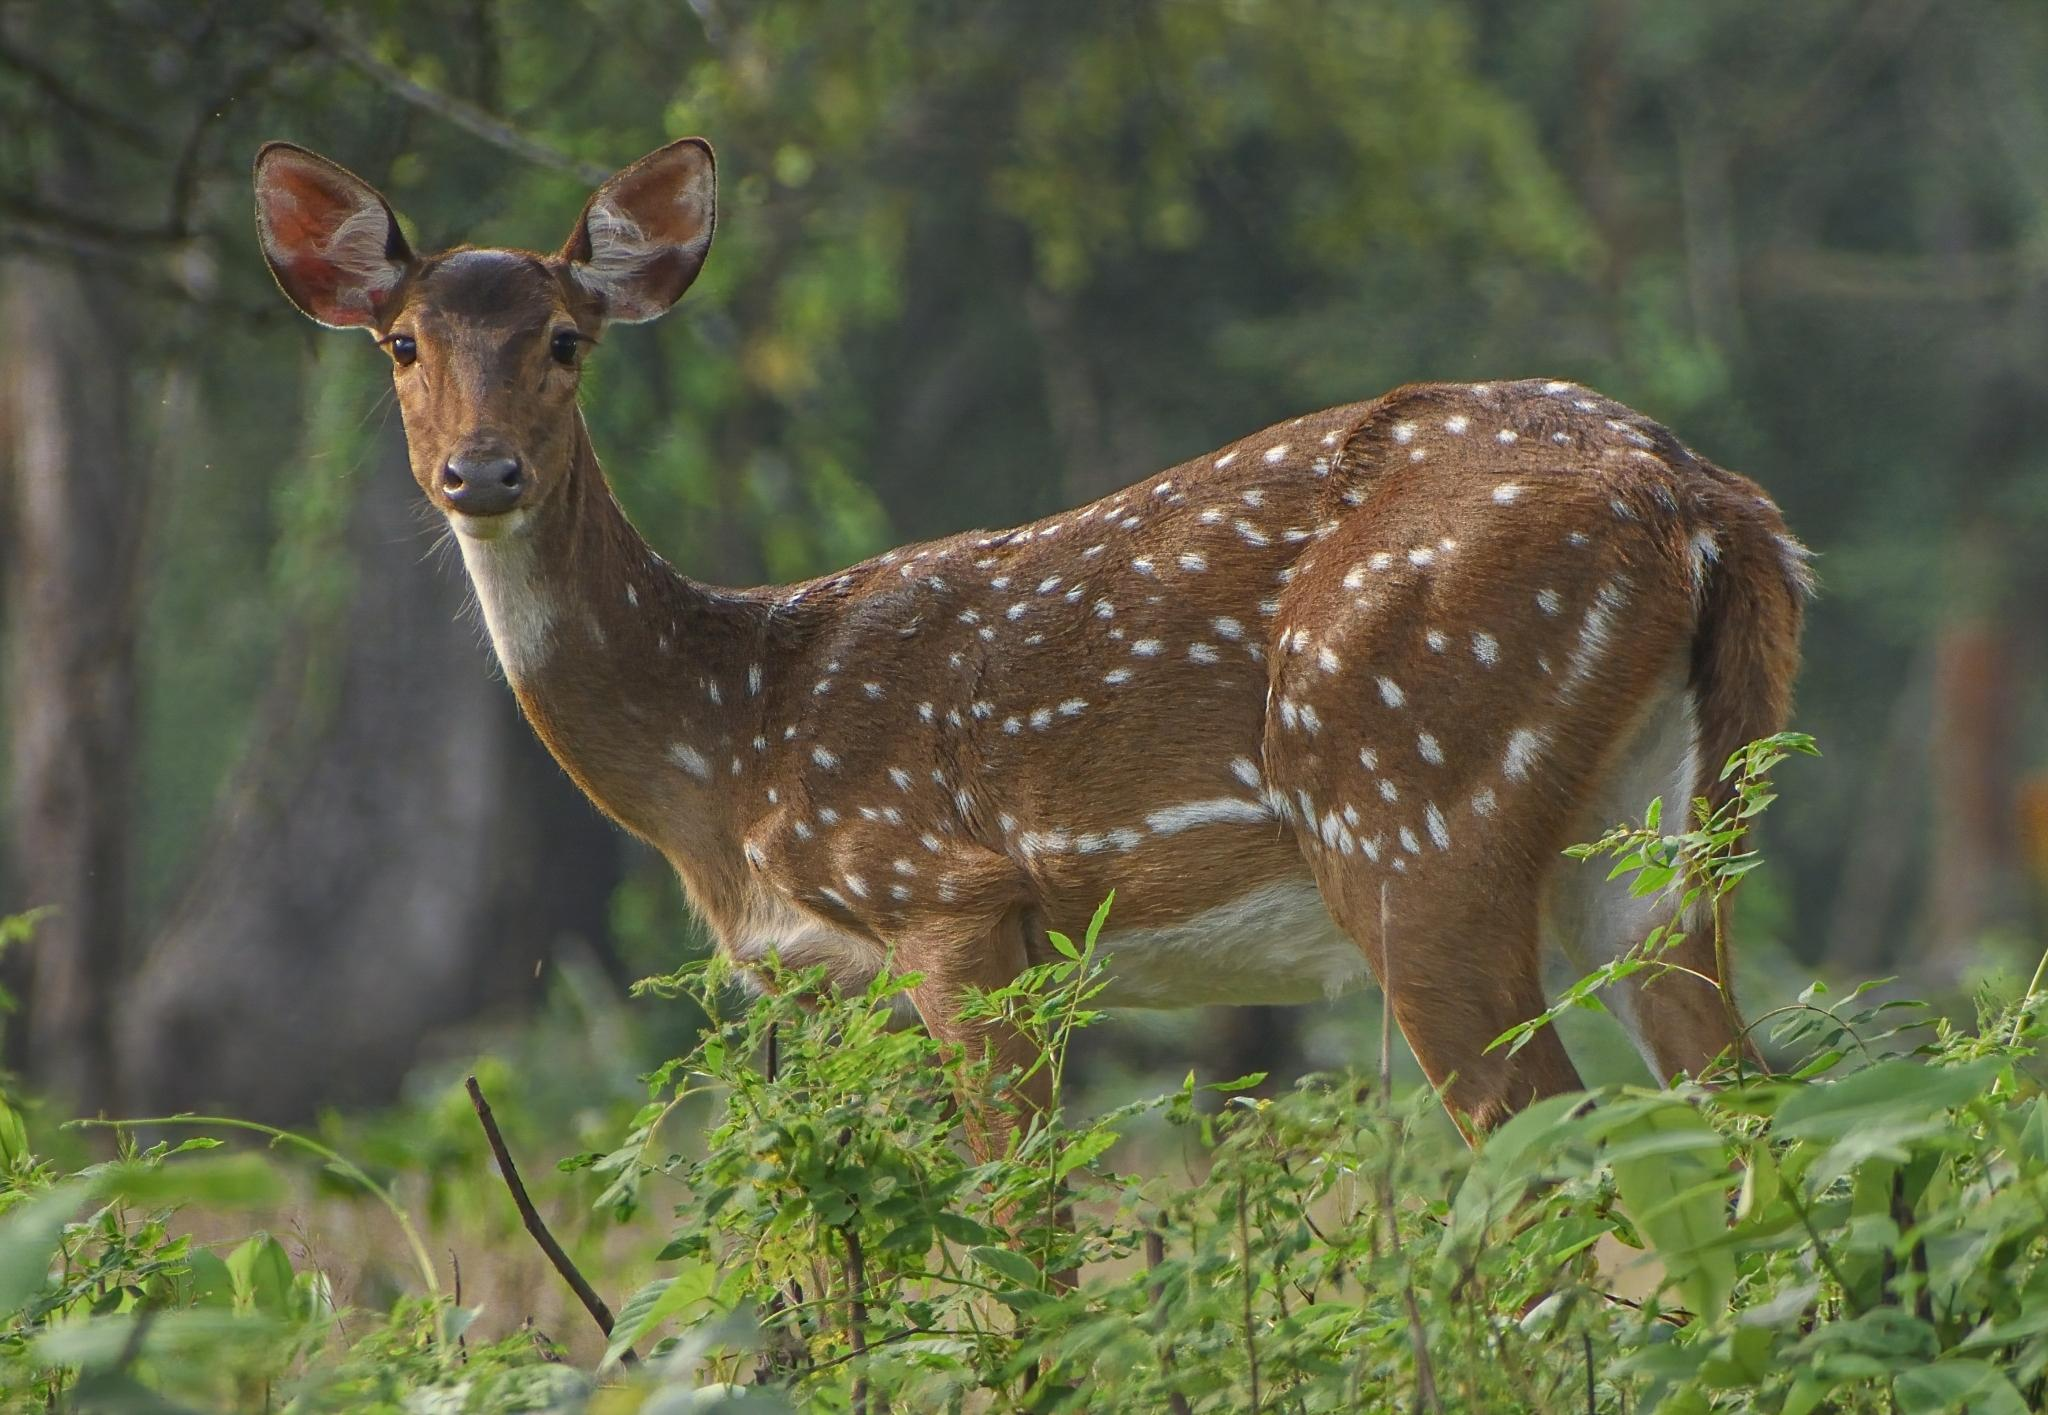Deer: (255, 139, 1811, 1164)
